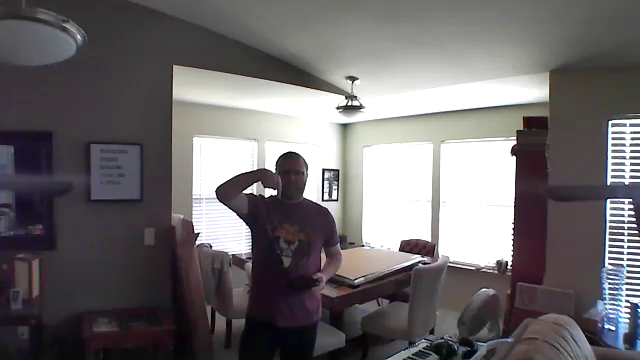down: (255, 164, 287, 202)
